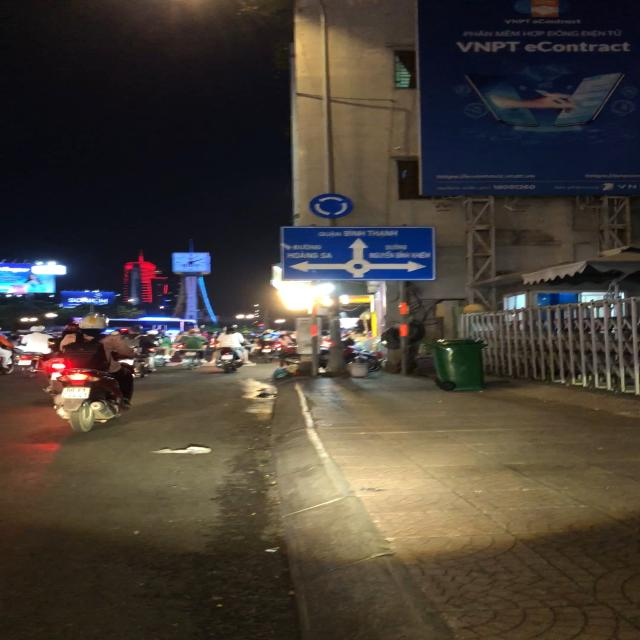Bien bao noi giao nhau chay theo vong xuyen: (308, 192, 356, 220)
